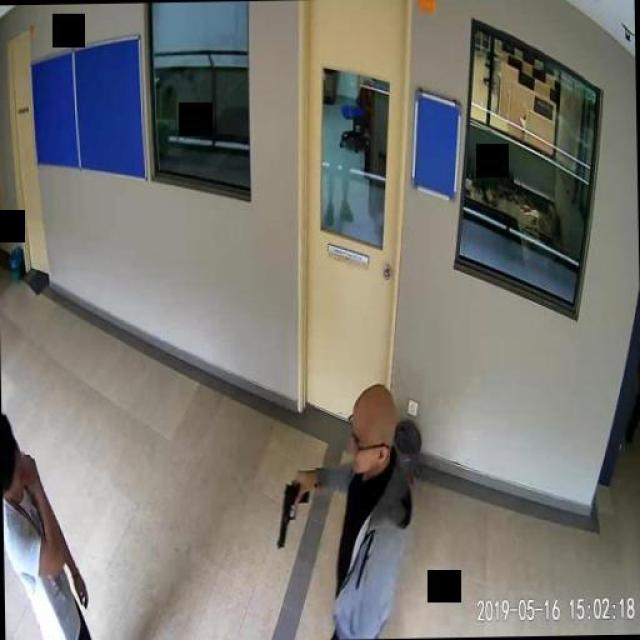gun: (274, 479, 308, 545)
